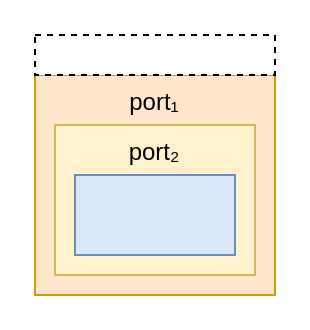
The diagram is 310 pixels wide and 330 high, and some of its shapes have lost their labels. The centre of each missing label's shape, as x and y in pixels:
data: the point at 154,214
hierarchical message: the point at 154,54
